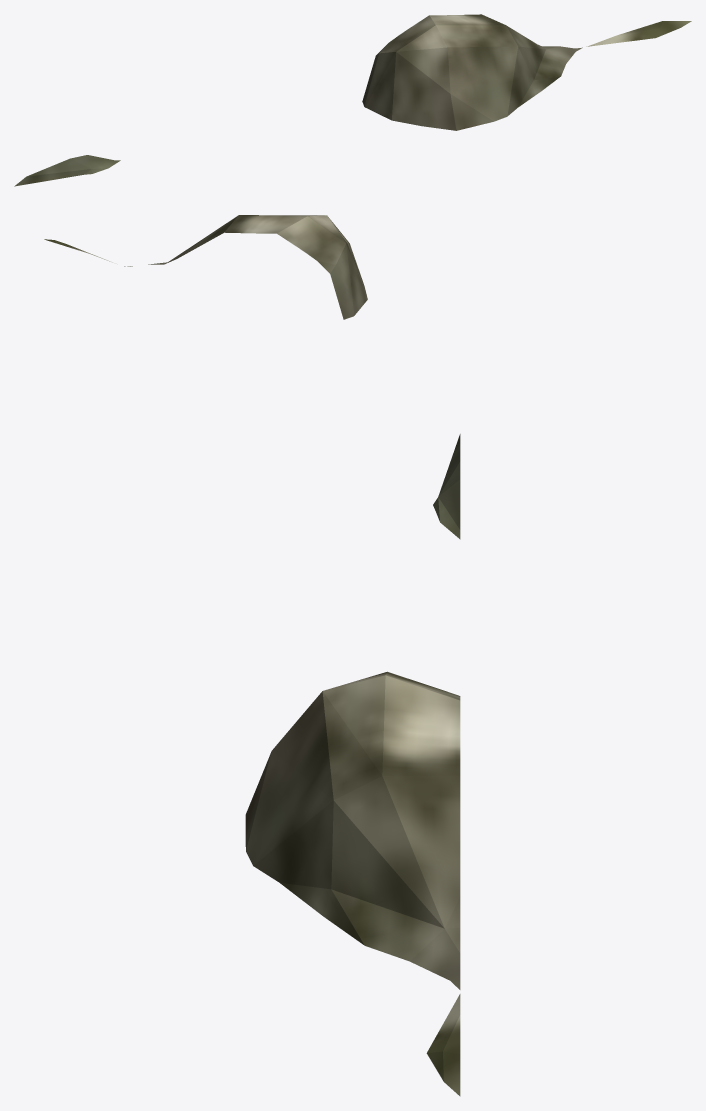
3 renders of one model, top to bottom at view 1: azimuth 30°, elevation 25°; view 2: azimuth 150°, elevation 25°; view 3: azimuth 270°, elevation 25°, orthographic. The views are drawn at different scales.
Bounding box in the file's own units: 2.13 × 0.2304 × 0.2925.
1 material, 1 textured.
